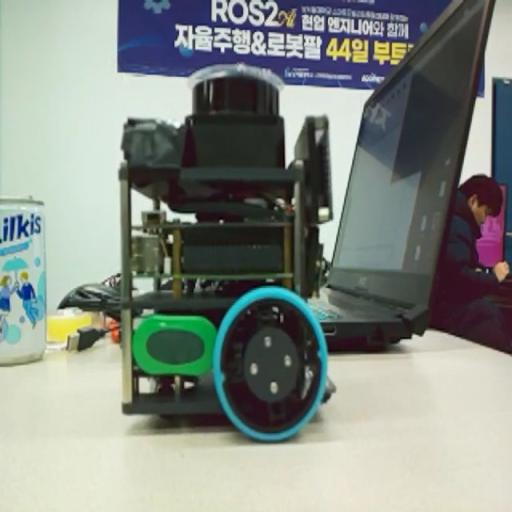pinky_63: (121, 60, 330, 448)
